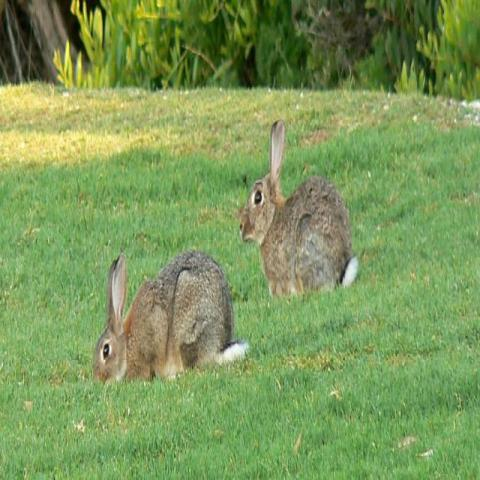small_animal: (236, 118, 360, 299), (91, 248, 248, 384)
